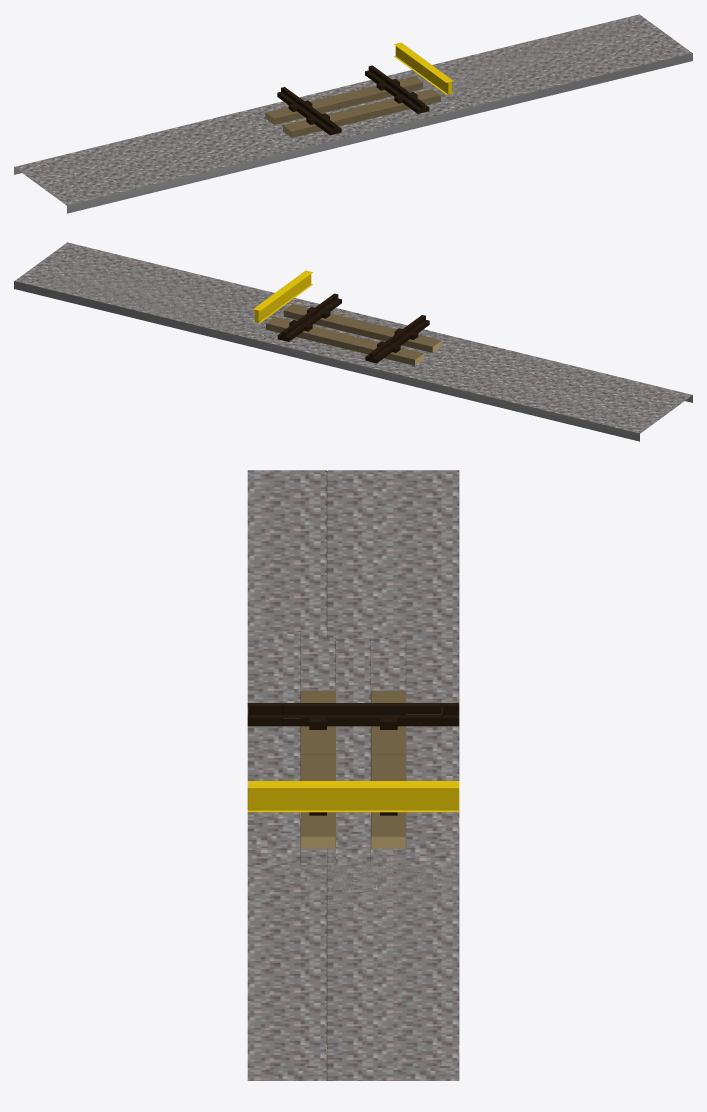
File: athen-metro-rail-7.obj
3 renders of one model, top to bottom at view 1: azimuth 30°, elevation 25°; view 2: azimuth 150°, elevation 25°; view 3: azimuth 270°, elevation 25°, orthographic. The views are drawn at different scales.
Visible parts, largest first — view 1: cube; view 2: cube; view 3: cube.
Part boxes in pixels (bbox=[...]): cube: bbox=[14, 14, 692, 213]; cube: bbox=[14, 242, 692, 441]; cube: bbox=[247, 470, 459, 1080].
Bounding box in the file's own units: 10.25 × 0.5952 × 1.5.
Materials: 2 (2 with a texture image).
